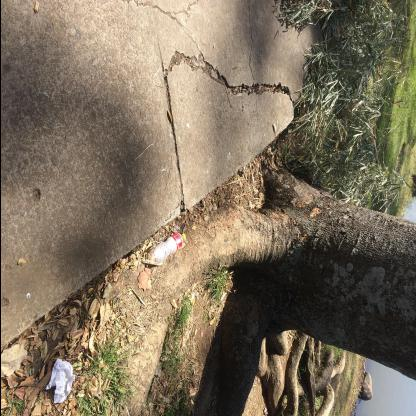kagit: (44, 358, 74, 403)
plastik: (148, 232, 186, 265)
